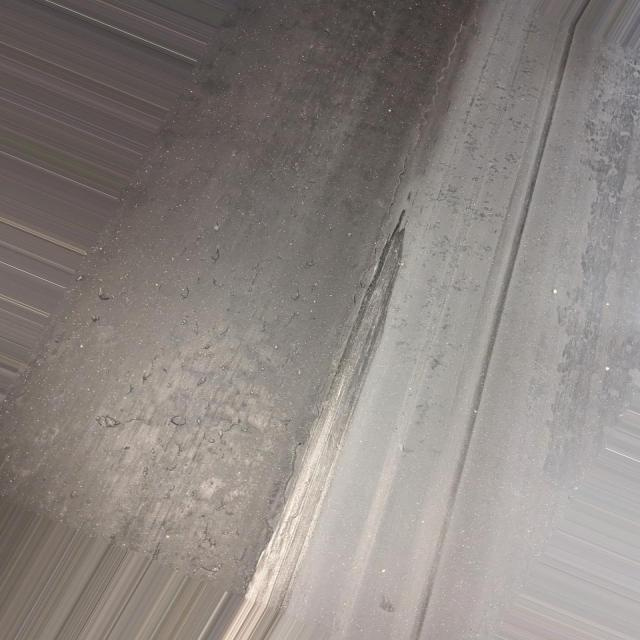Wear: (238, 206, 416, 604)
